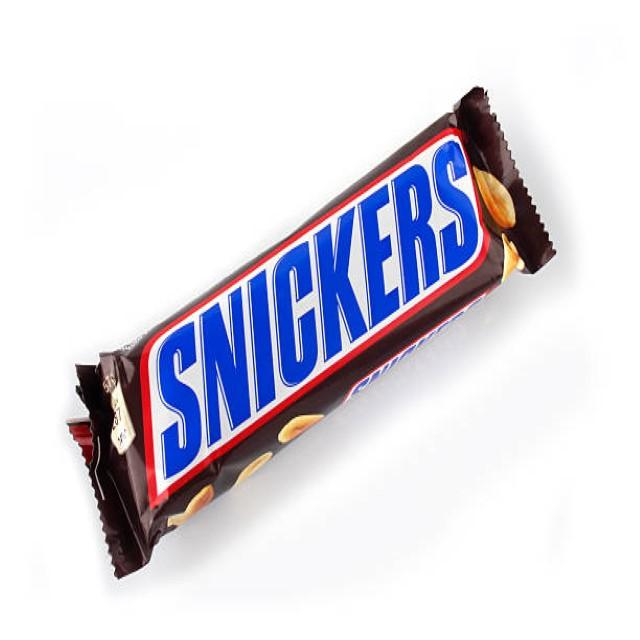snickers_chocolate: (50, 88, 555, 588)
